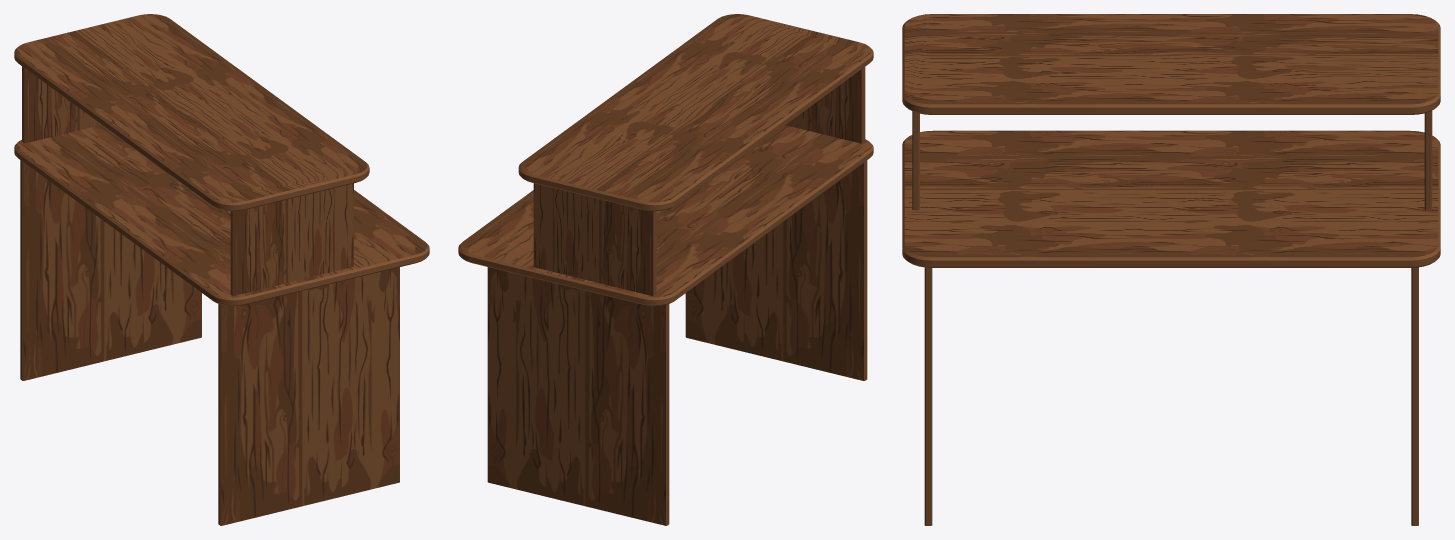
File: table.fbx
3 views of the same model, side by side, from view 1: azimuth 30°, elevation 25°; view 2: azimuth 150°, elevation 25°; view 3: azimuth 270°, elevation 25° (orthographic). The views are drawn at different scales.
Visible parts, largest first — view 1: table; view 2: table; view 3: table.
Part boxes in pixels (<box>): table: <box>14,14,429,525</box>; table: <box>458,14,873,525</box>; table: <box>902,14,1440,525</box>.
Size of the model in its own units: 79.54 by 116 by 141.
